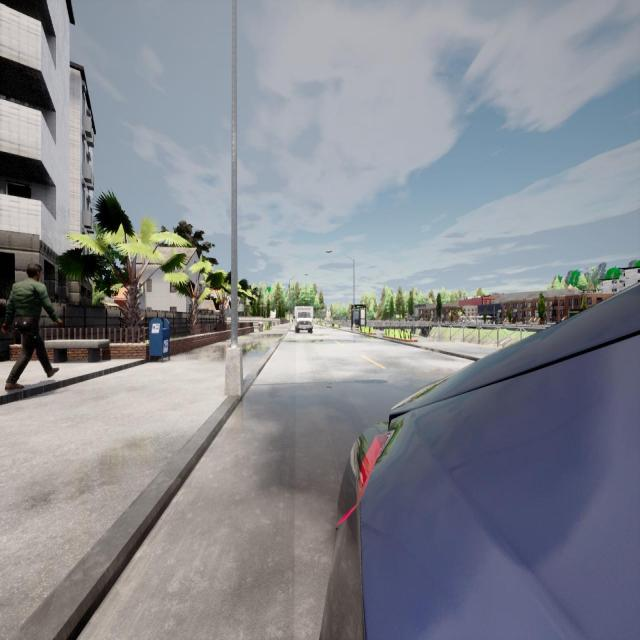Pedestrian: (2, 263, 62, 390)
Vehicle: (321, 285, 640, 640), (293, 306, 315, 334)
